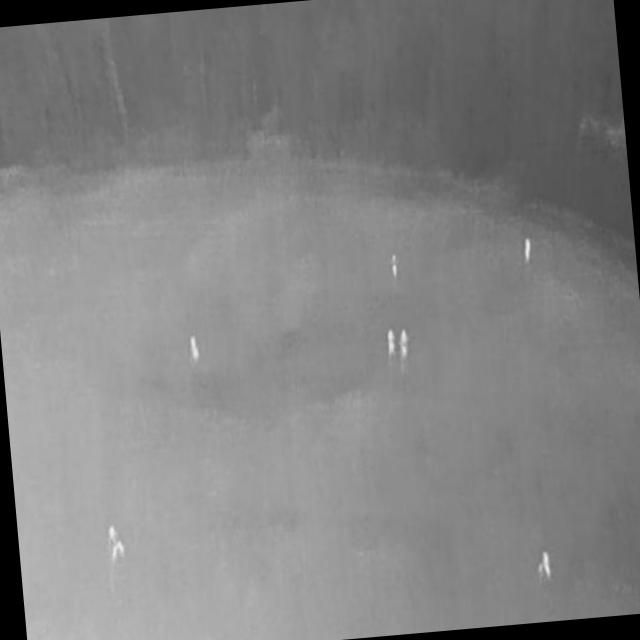person: (533, 545, 556, 592), (107, 526, 127, 567), (397, 329, 410, 362), (385, 328, 397, 359), (189, 334, 200, 365), (389, 252, 401, 280), (522, 237, 533, 265)
